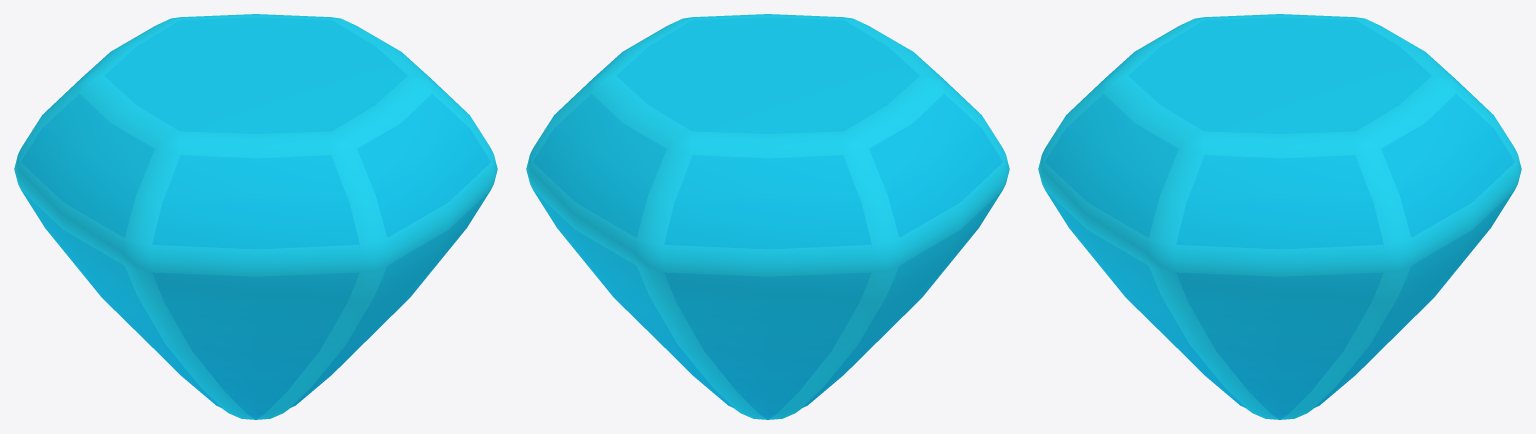
The model's file is Diamond_01.glb.
The picture shows the model from 3 angles, left to right: view 1: azimuth 30°, elevation 25°; view 2: azimuth 150°, elevation 25°; view 3: azimuth 270°, elevation 25°; orthographic projection.
Parts seen in each view (by area): view 1: Diamond_01; view 2: Diamond_01; view 3: Diamond_01.
Part boxes in pixels (box(x1,y1,x2,y2)): Diamond_01: box(14, 14, 497, 419); Diamond_01: box(526, 14, 1009, 419); Diamond_01: box(1038, 14, 1521, 419).
Size of the model in its own units: 1.07 by 0.8977 by 1.15.
Materials: 1 (1 with a texture image).
